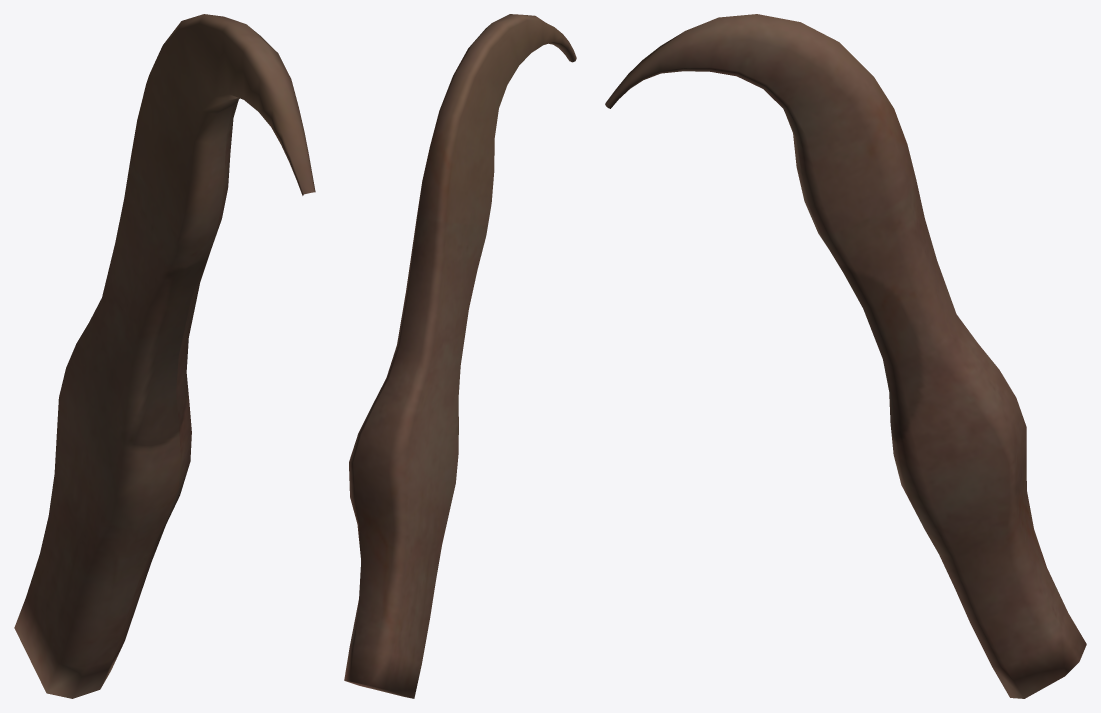
The model's file is Medulla_Oblongate.gltf.
3 renders of one model, left to right at view 1: azimuth 30°, elevation 25°; view 2: azimuth 150°, elevation 25°; view 3: azimuth 270°, elevation 25°, orthographic. The views are drawn at different scales.
Visible parts, largest first — view 1: Medulla_Oblongate; view 2: Medulla_Oblongate; view 3: Medulla_Oblongate.
Part boxes in pixels (box(x1,y1,x2,y2)): Medulla_Oblongate: box(14, 14, 315, 698); Medulla_Oblongate: box(344, 14, 576, 698); Medulla_Oblongate: box(605, 14, 1086, 698).
Size of the model in its own units: 0.972 by 7.72 by 4.97.
Materials: 1 (1 with a texture image).
